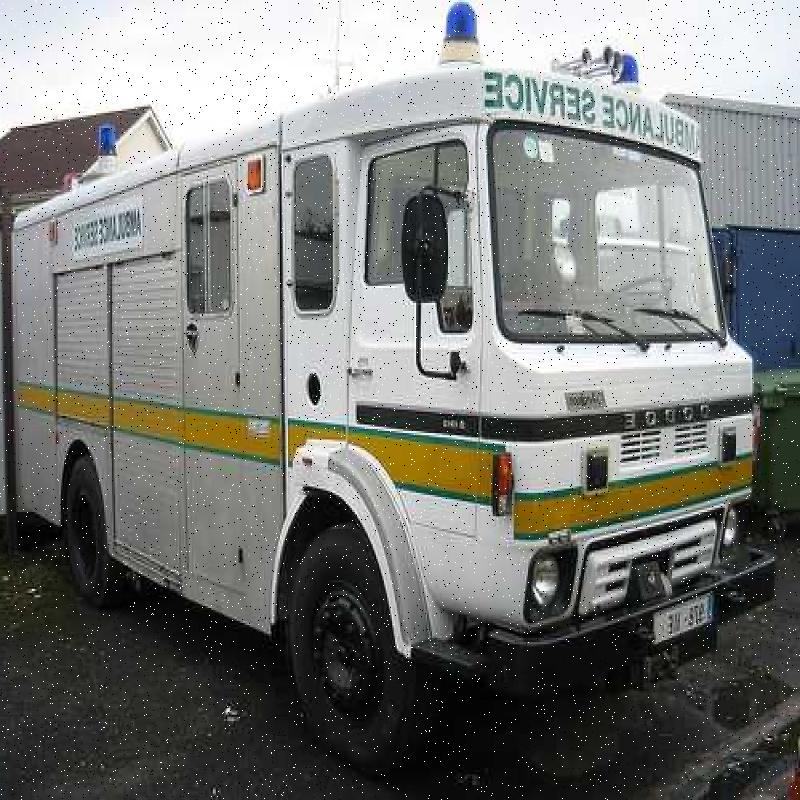AmbulanceSiren: (424, 6, 493, 76), (90, 118, 126, 177)
